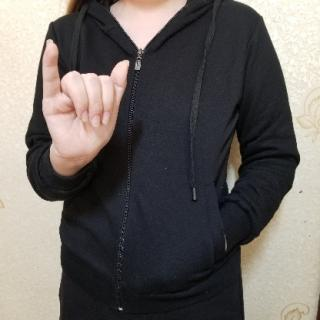YA: (41, 37, 132, 172)
